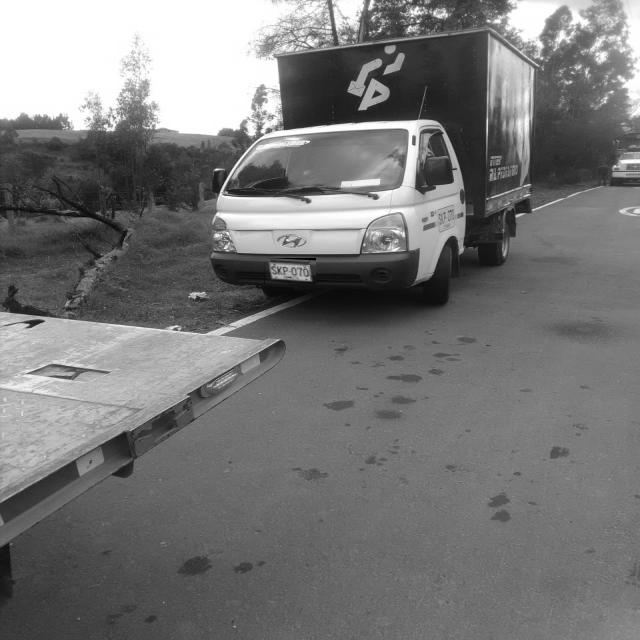plate: (264, 258, 316, 284)
